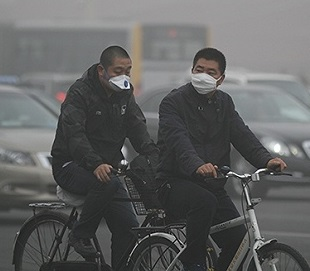person: (157, 46, 287, 271), (50, 42, 162, 270)
